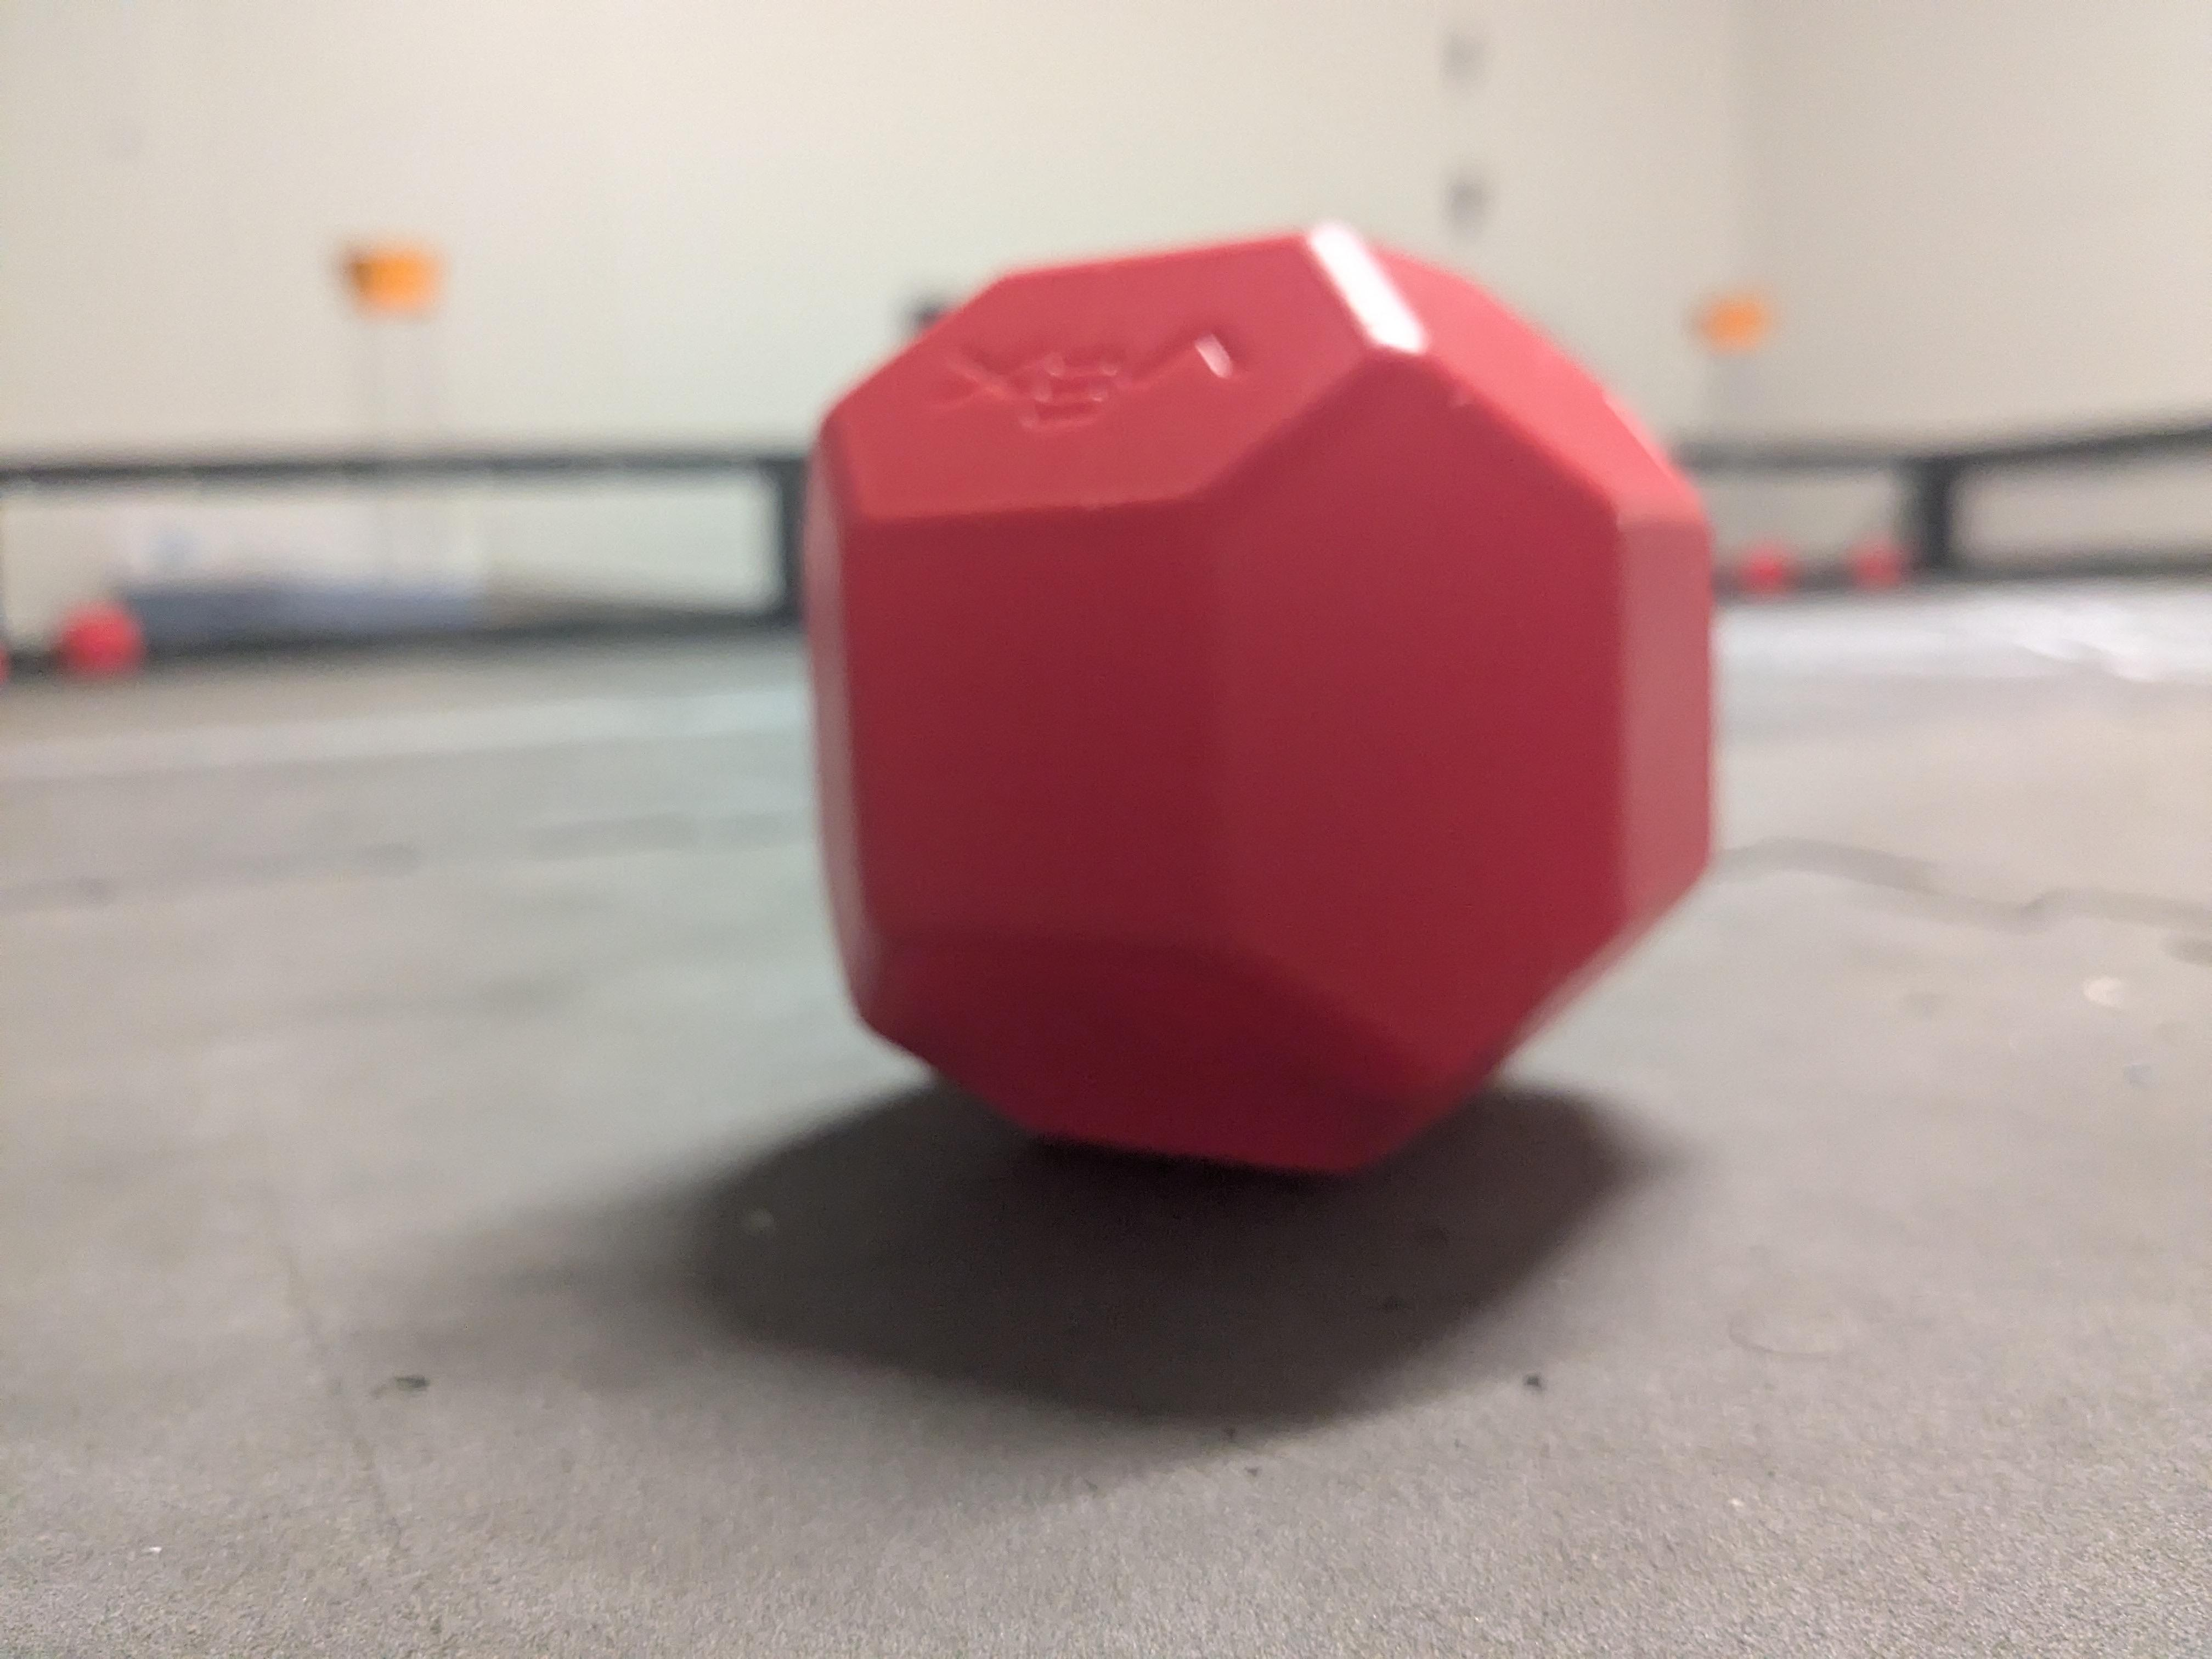Vex-Pieces-RED: (806, 230, 1710, 1169)
